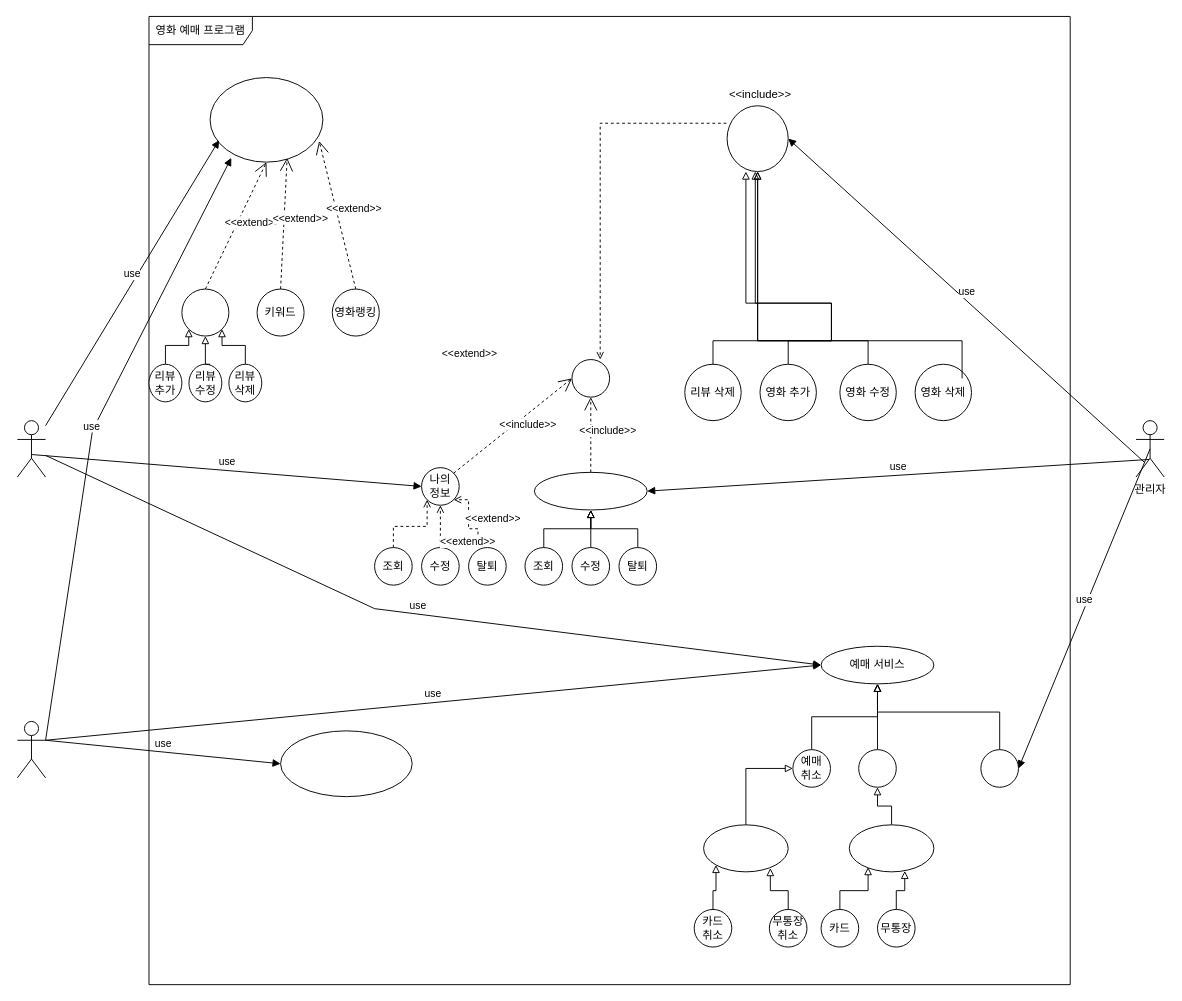
This 1182x1001 diagram has some shape labels left out. The centre of each missing label's shape, as x and y in pixels:
결제: pixel 891 848
결제 취소: pixel 745 848
로그인: pixel 590 378
비회원: pixel 31 749
영화 관리: pixel 757 138
영화 리뷰: pixel 205 312
영화조회: pixel 266 119
예매: pixel 877 768
예매 조회: pixel 999 768
회원: pixel 31 448
회원가입: pixel 346 763
회원관리: pixel 590 490
